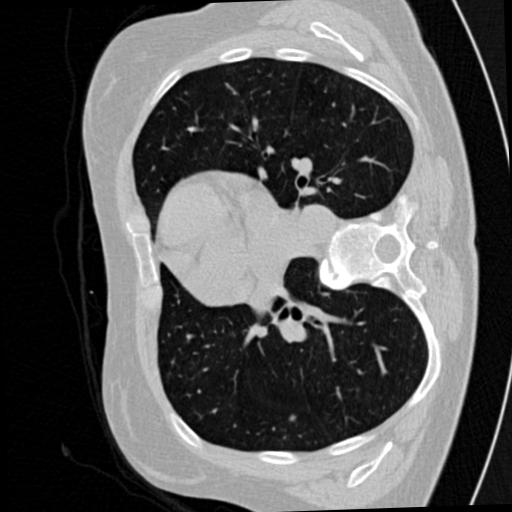nodule: (287, 413, 299, 425)
